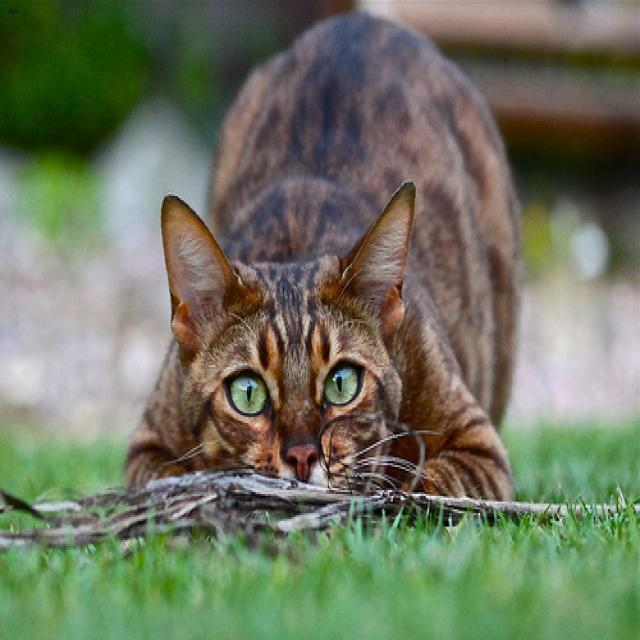Bengal: (159, 177, 413, 486)
